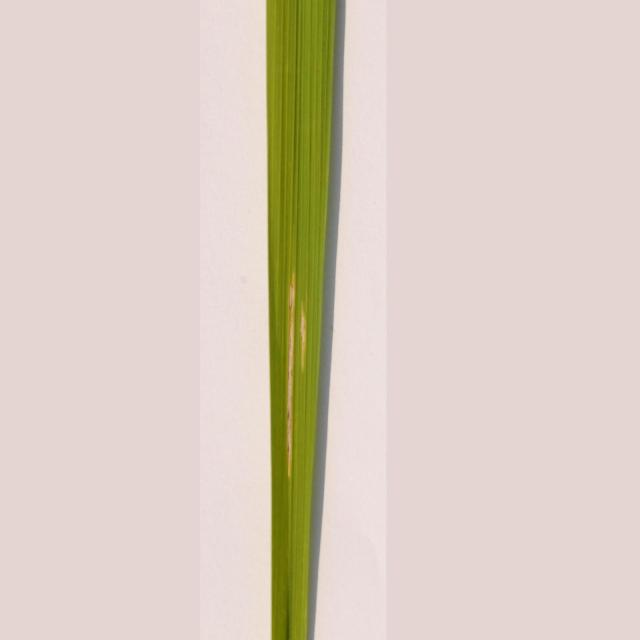Bacterial leaf blight: (282, 262, 312, 491)
